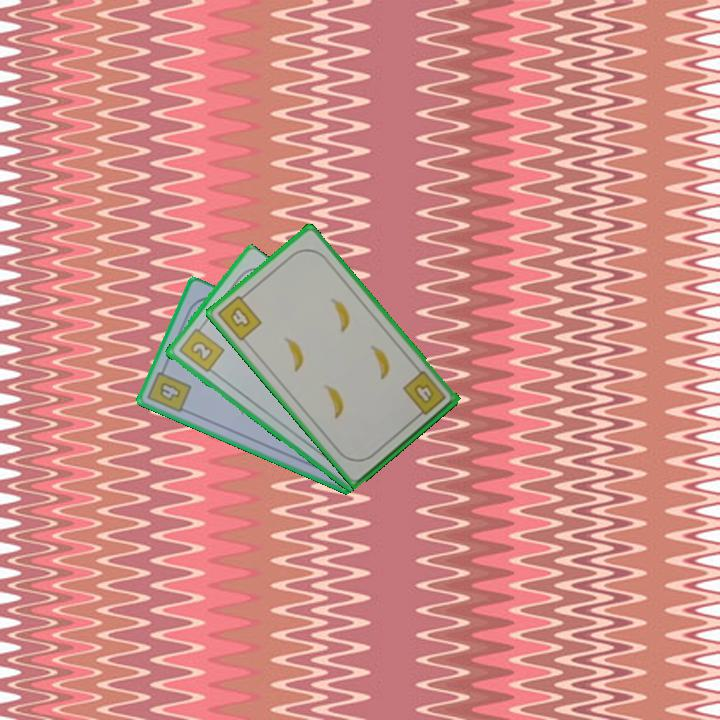2b: (175, 321, 227, 375)
4b: (214, 289, 265, 344), (399, 367, 449, 421), (144, 362, 194, 415)
